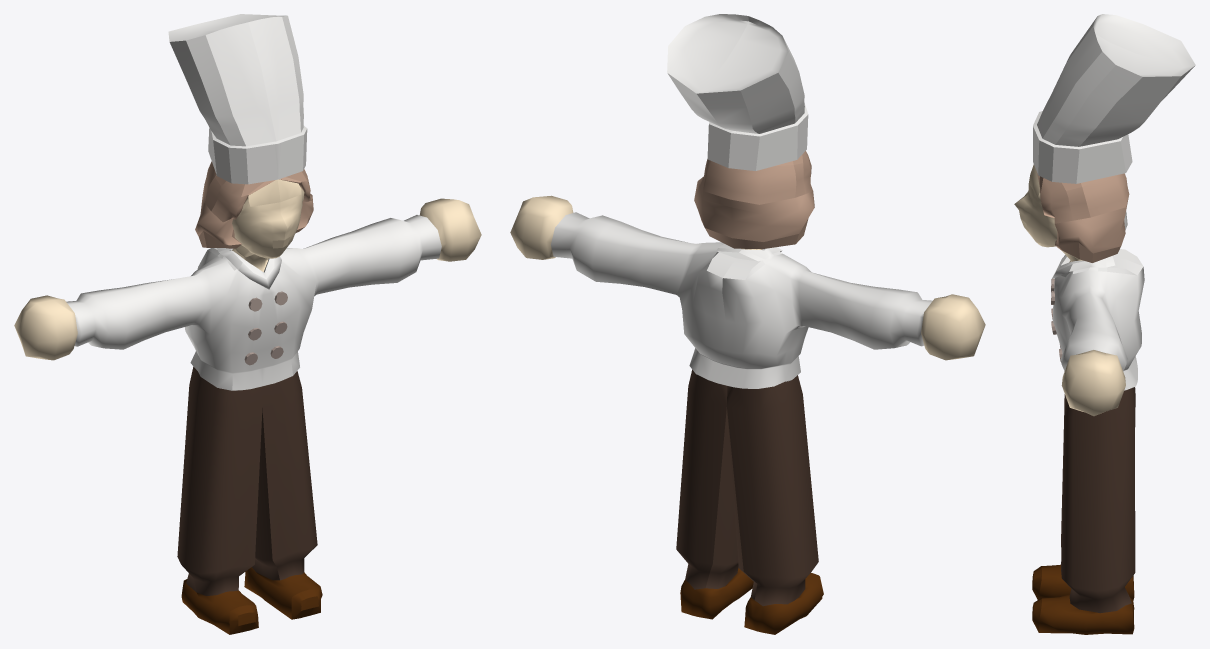
The model's file is Chef.fbx.
The picture shows the model from 3 angles, left to right: view 1: azimuth 30°, elevation 25°; view 2: azimuth 150°, elevation 25°; view 3: azimuth 270°, elevation 25°; orthographic projection.
Visible parts, largest first — view 1: Chef1; view 2: Chef1; view 3: Chef1.
Part boxes in pixels (left/top/right/bottom): Chef1: left=14, top=14, right=481, bottom=634; Chef1: left=510, top=14, right=985, bottom=634; Chef1: left=1014, top=14, right=1195, bottom=634.
Bounding box in the file's own units: 70.46 × 86.48 × 24.28.
1 material, 1 textured.
